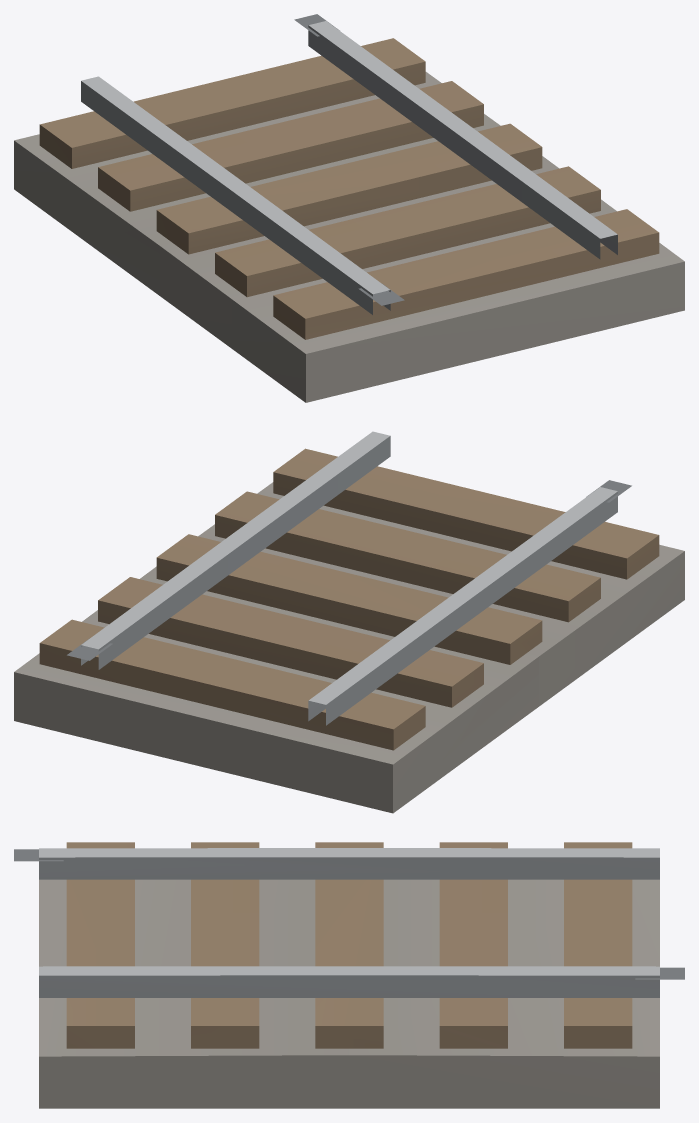
File: rail_straight_2_low.glb
3 renders of one model, top to bottom at view 1: azimuth 30°, elevation 25°; view 2: azimuth 150°, elevation 25°; view 3: azimuth 270°, elevation 25°, orthographic. The views are drawn at different scales.
Parts seen in each view (by area): view 1: geometry_rail_straight_2; view 2: geometry_rail_straight_2; view 3: geometry_rail_straight_2.
Part boxes in pixels (x1=…): geometry_rail_straight_2: x1=14, y1=14, x2=684, y2=402; geometry_rail_straight_2: x1=14, y1=431, x2=684, y2=813; geometry_rail_straight_2: x1=14, y1=842, x2=684, y2=1108.
Size of the model in its own units: 1.5 by 0.35 by 2.16.
